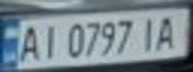0: (63, 19, 87, 58)
7: (112, 16, 139, 55), (81, 17, 103, 57)
9: (100, 17, 118, 56)
A: (151, 11, 184, 52), (15, 21, 45, 62)
I: (136, 12, 163, 53), (36, 20, 63, 60)
